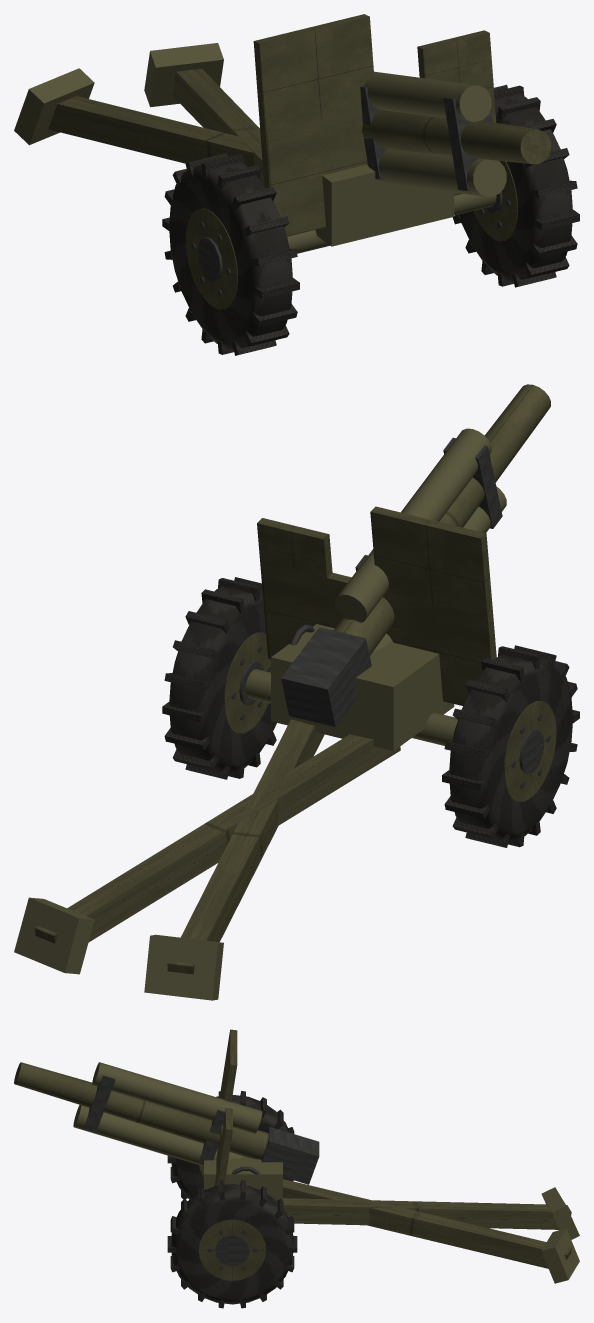
The model's file is howitzer_m101_105mm_lod0.glb.
3 renders of one model, top to bottom at view 1: azimuth 30°, elevation 25°; view 2: azimuth 150°, elevation 25°; view 3: azimuth 270°, elevation 25°, orthographic. The views are drawn at different scales.
Visible parts, largest first — view 1: Howitzer_105mm_M101A1; view 2: Howitzer_105mm_M101A1; view 3: Howitzer_105mm_M101A1.
Boxes of the visible parts, x1,y1,x2,y2 form: Howitzer_105mm_M101A1: [14, 14, 579, 355]; Howitzer_105mm_M101A1: [14, 384, 579, 1000]; Howitzer_105mm_M101A1: [14, 1029, 579, 1308].
Size of the model in its own units: 2.22 by 1.96 by 5.16.
4 materials, 3 textured.
